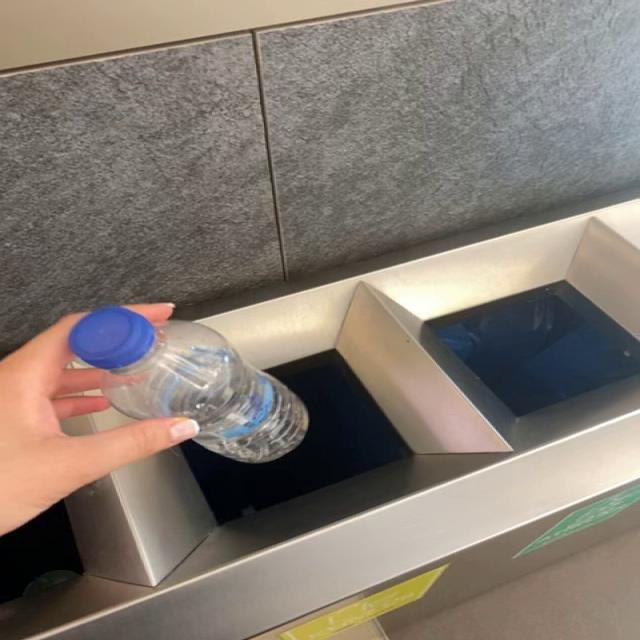plastic: (68, 306, 308, 464)
